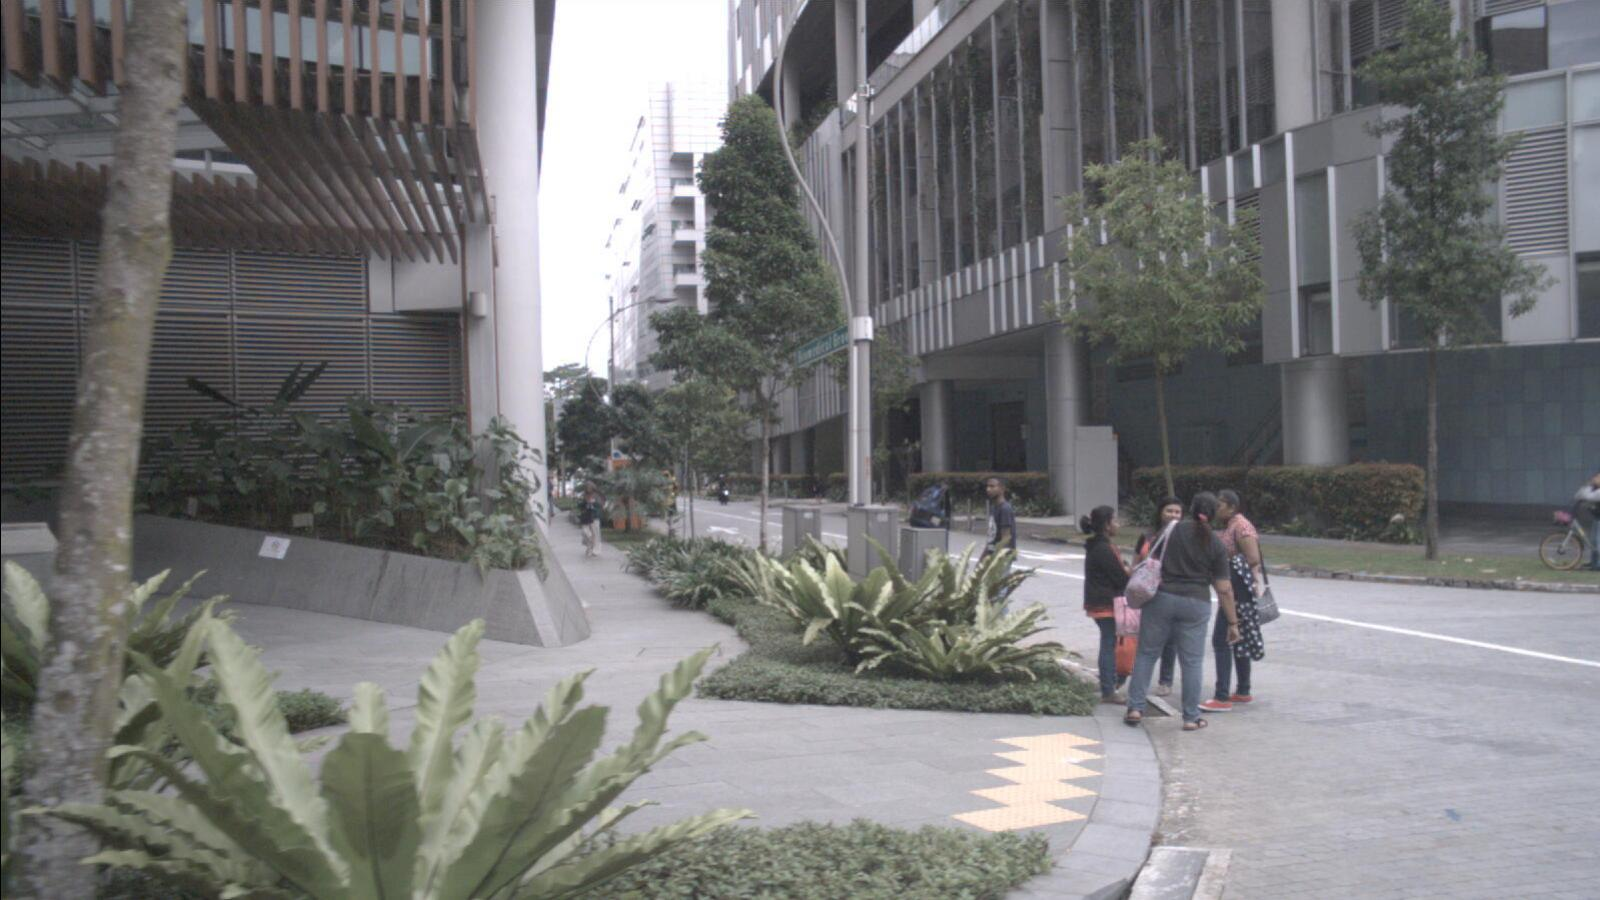human.pedestrian.adult-pedestrian.moving: (972, 476, 1016, 646), (575, 481, 604, 558), (544, 477, 555, 517), (813, 474, 822, 505)
human.pedestrian.adult-pedestrian.standing: (1122, 490, 1241, 731), (1196, 487, 1280, 713), (1127, 498, 1195, 696), (1078, 505, 1131, 705), (1573, 471, 1600, 573)
vehicle.bicycle-cycle.with_rider: (1535, 465, 1600, 577)
vehicle.motorcycle-cycle.with_rider: (715, 471, 731, 509)
